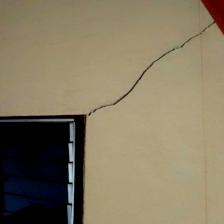Medium: (91, 27, 211, 111)
